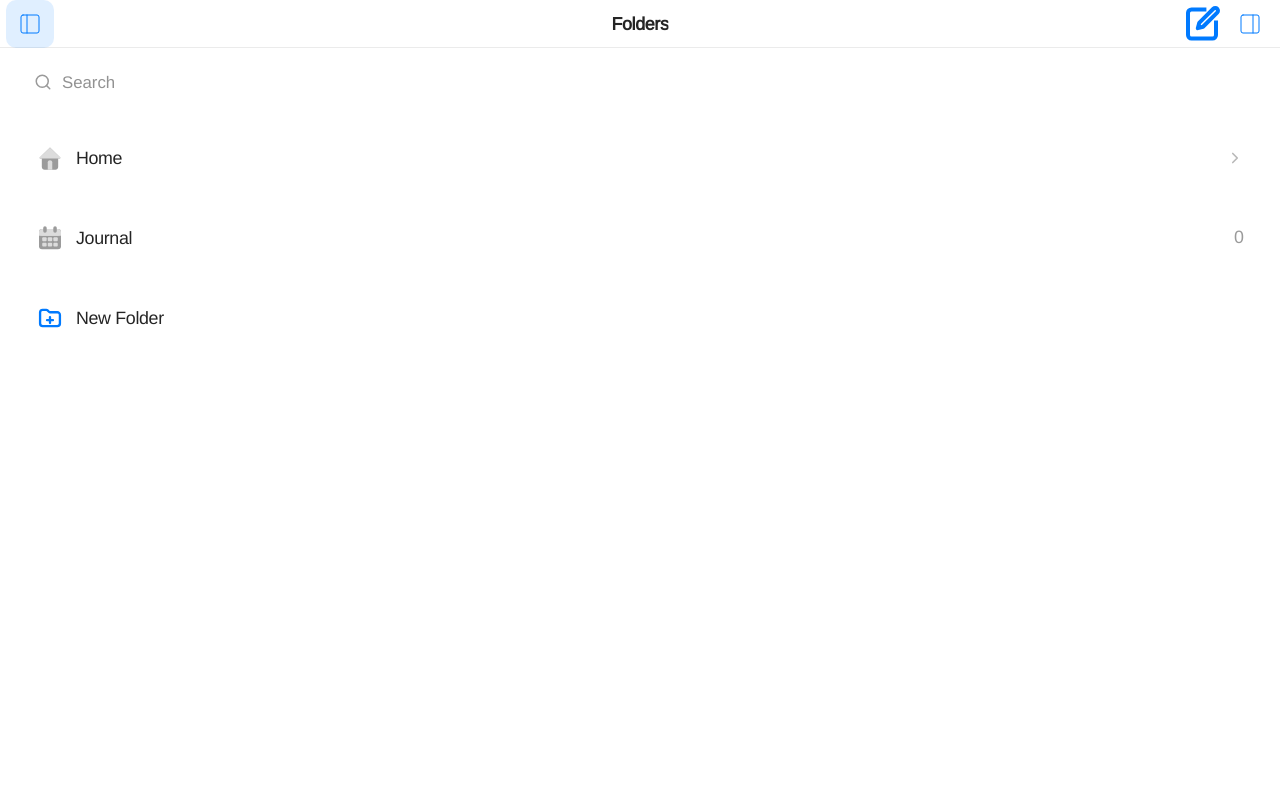
MobileFolders chrome › opens the folder dialog from the list row
The image size is (1280, 800).
Click the button "New Folder" at (120, 318), box [20, 292, 1260, 344]
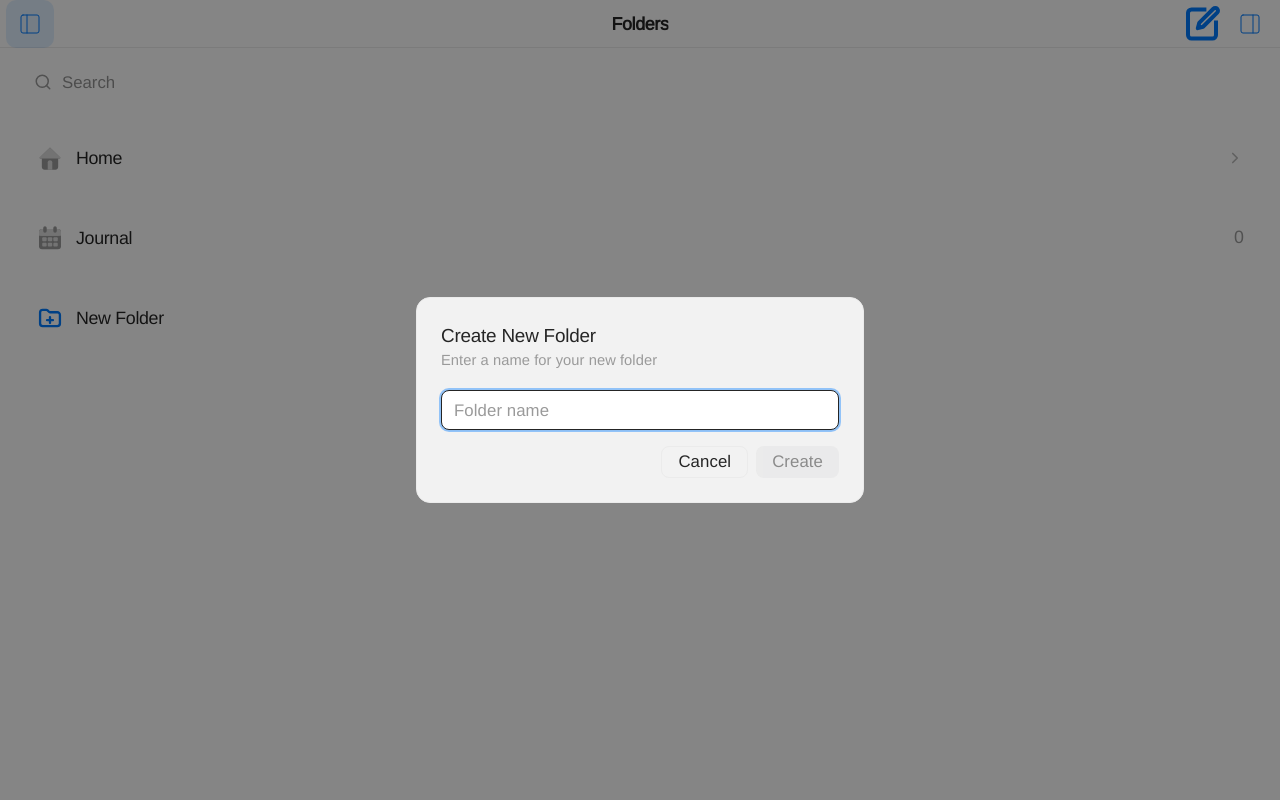
Now the heading "Create New Folder" is shown, box [441, 325, 596, 346]
